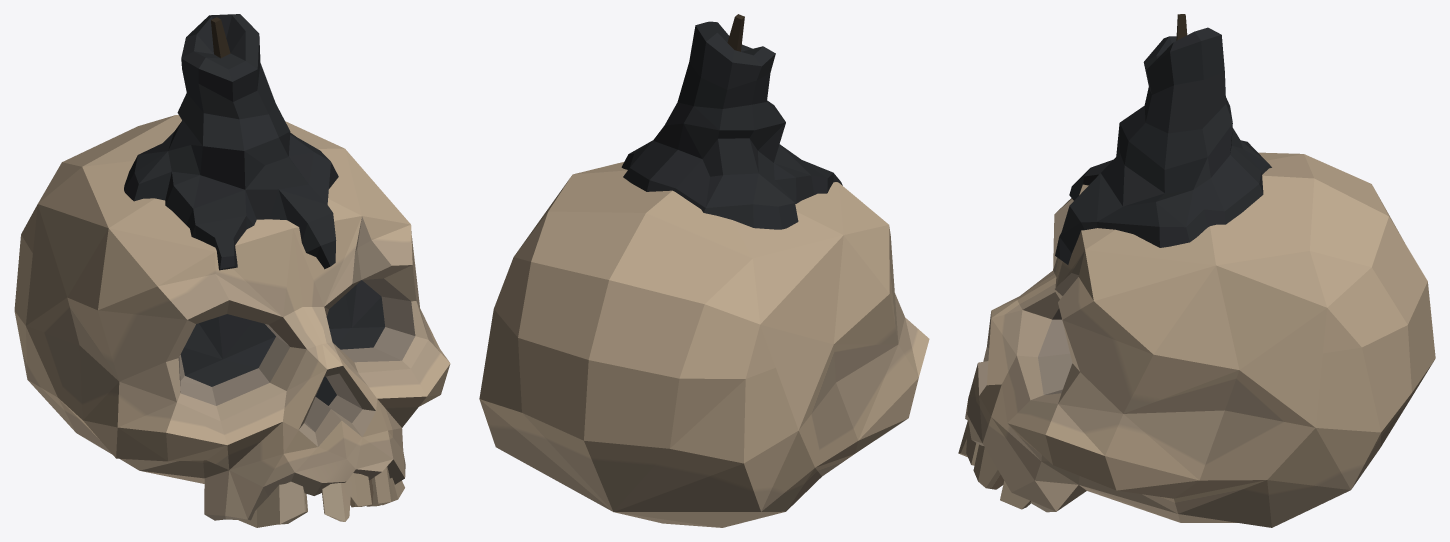
The model's file is SM_Prop_Candle_08.fbx.
The picture shows the model from 3 angles, left to right: view 1: azimuth 30°, elevation 25°; view 2: azimuth 150°, elevation 25°; view 3: azimuth 270°, elevation 25°; orthographic projection. The views are drawn at different scales.
Parts seen in each view (by area): view 1: SM_Prop_Candle_08; view 2: SM_Prop_Candle_08; view 3: SM_Prop_Candle_08.
Boxes of the visible parts, left/top/right/bottom form: SM_Prop_Candle_08: left=14, top=14, right=450, bottom=527; SM_Prop_Candle_08: left=479, top=14, right=929, bottom=527; SM_Prop_Candle_08: left=958, top=14, right=1435, bottom=527.
Size of the model in its own units: 24.14 by 33.22 by 30.69.
